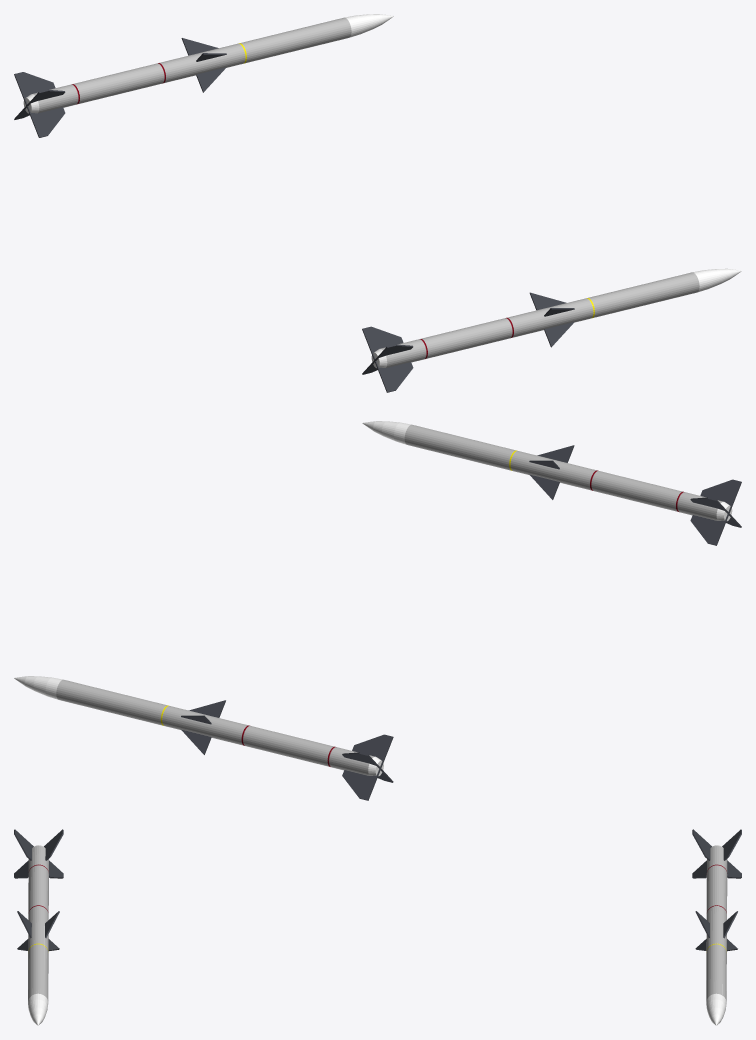
File: f15eaim120611.glb
The picture shows the model from 3 angles, top to bottom: view 1: azimuth 30°, elevation 25°; view 2: azimuth 150°, elevation 25°; view 3: azimuth 270°, elevation 25°; orthographic projection. The views are drawn at different scales.
Parts seen in each view (by area): view 1: 円柱.006, 円柱.003; view 2: 円柱.006, 円柱.003; view 3: 円柱.003, 円柱.006.
Boxes of the visible parts, <box> form: 円柱.006: <box>362,268,741,392</box>; 円柱.003: <box>14,14,393,137</box>; 円柱.006: <box>362,421,741,545</box>; 円柱.003: <box>14,676,393,800</box>; 円柱.003: <box>692,829,741,1025</box>; 円柱.006: <box>14,829,63,1025</box>.
Size of the model in its own units: 4.39 by 0.5295 by 7.74.
Materials: 4 (4 with a texture image).
